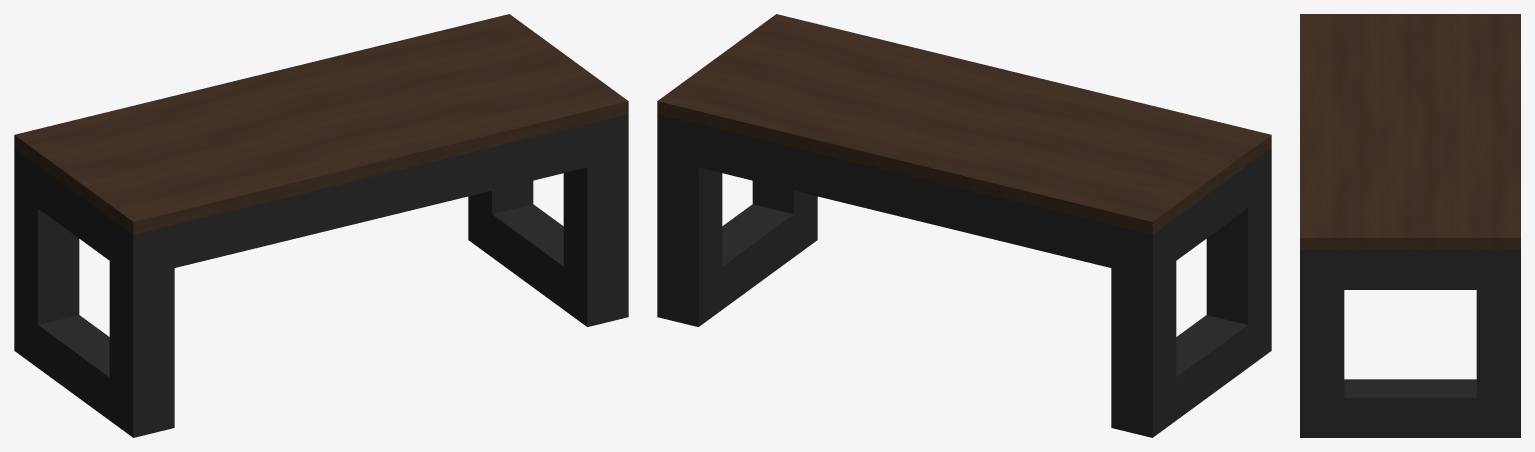
The model's file is mesa-living-nord-ebano-negro-10cm.glb.
3 views of the same model, side by side, from view 1: azimuth 30°, elevation 25°; view 2: azimuth 150°, elevation 25°; view 3: azimuth 270°, elevation 25° (orthographic). The views are drawn at different scales.
Visible parts, largest first — view 1: Tapa de madera maciza 120 x 50 cm, Pata recta de hierro 10 x 10 cm (×4), Larguero longitudinal superior recto, Travesaño inferior recto (×2), Travesaño superior recto; view 2: Tapa de madera maciza 120 x 50 cm, Pata recta de hierro 10 x 10 cm (×4), Larguero longitudinal superior recto, Travesaño inferior recto (×2), Travesaño superior recto; view 3: Tapa de madera maciza 120 x 50 cm, Pata recta de hierro 10 x 10 cm (×2), Travesaño inferior recto, Travesaño superior recto.
Part boxes in pixels (x1=…): Tapa de madera maciza 120 x 50 cm: x1=14, y1=14, x2=628, y2=234; Pata recta de hierro 10 x 10 cm (×4): x1=14, y1=114, x2=628, y2=437; Larguero longitudinal superior recto: x1=174, y1=124, x2=587, y2=267; Travesaño inferior recto (×2): x1=26, y1=204, x2=575, y2=428; Travesaño superior recto: x1=26, y1=158, x2=121, y2=269; Tapa de madera maciza 120 x 50 cm: x1=657, y1=14, x2=1271, y2=234; Pata recta de hierro 10 x 10 cm (×4): x1=657, y1=114, x2=1271, y2=437; Larguero longitudinal superior recto: x1=698, y1=124, x2=1111, y2=267; Travesaño inferior recto (×2): x1=710, y1=204, x2=1247, y2=428; Travesaño superior recto: x1=1164, y1=165, x2=1247, y2=268; Tapa de madera maciza 120 x 50 cm: x1=1300, y1=14, x2=1520, y2=249; Pata recta de hierro 10 x 10 cm (×2): x1=1300, y1=250, x2=1520, y2=437; Travesaño inferior recto: x1=1323, y1=379, x2=1497, y2=437; Travesaño superior recto: x1=1322, y1=250, x2=1498, y2=289.
Bounding box in the file's own units: 1.2 × 0.5 × 0.5.
Materials: 2 (1 with a texture image).
